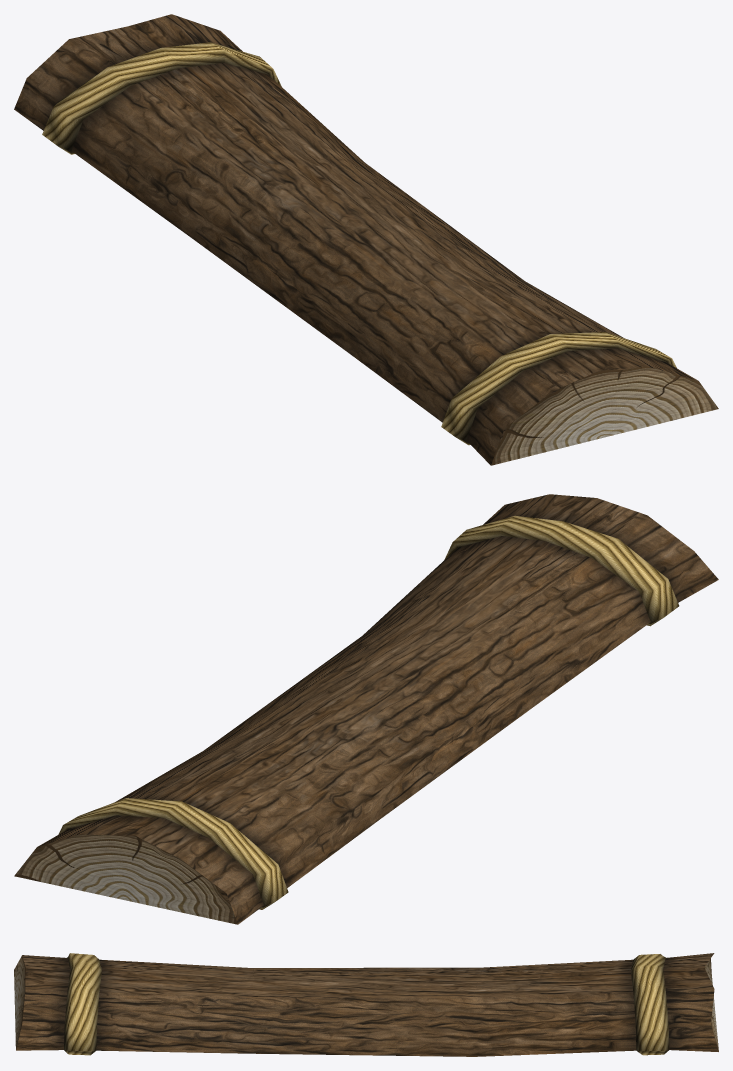
The model's file is Plank3.obj.
The picture shows the model from 3 angles, top to bottom: view 1: azimuth 30°, elevation 25°; view 2: azimuth 150°, elevation 25°; view 3: azimuth 270°, elevation 25°; orthographic projection. The views are drawn at different scales.
Visible parts, largest first — view 1: Mesh; view 2: Mesh; view 3: Mesh.
Boxes of the visible parts, bbox=[...] form: Mesh: bbox=[14, 14, 718, 465]; Mesh: bbox=[14, 494, 718, 924]; Mesh: bbox=[14, 953, 718, 1056].
Bounding box in the file's own units: 0.831 × 0.2697 × 3.05.
